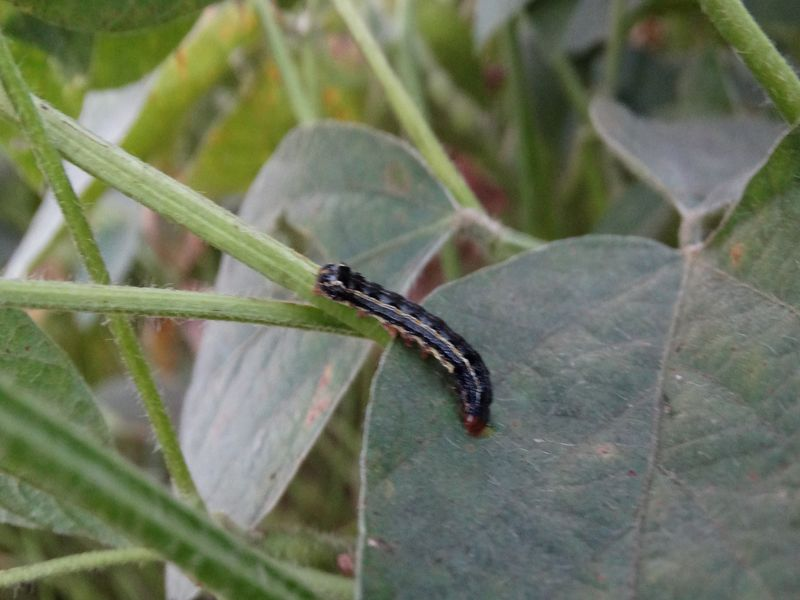Spodoptera_albula: (292, 245, 519, 461)
